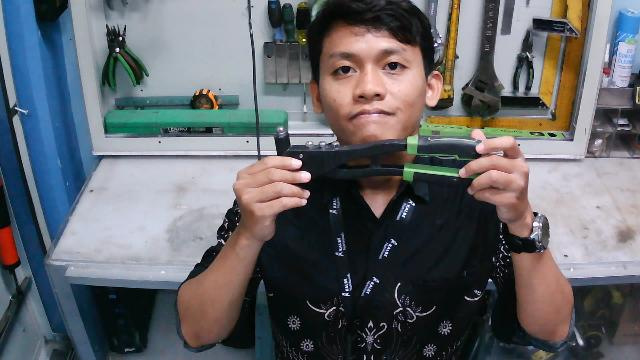tang_rivet: (272, 126, 500, 187)
